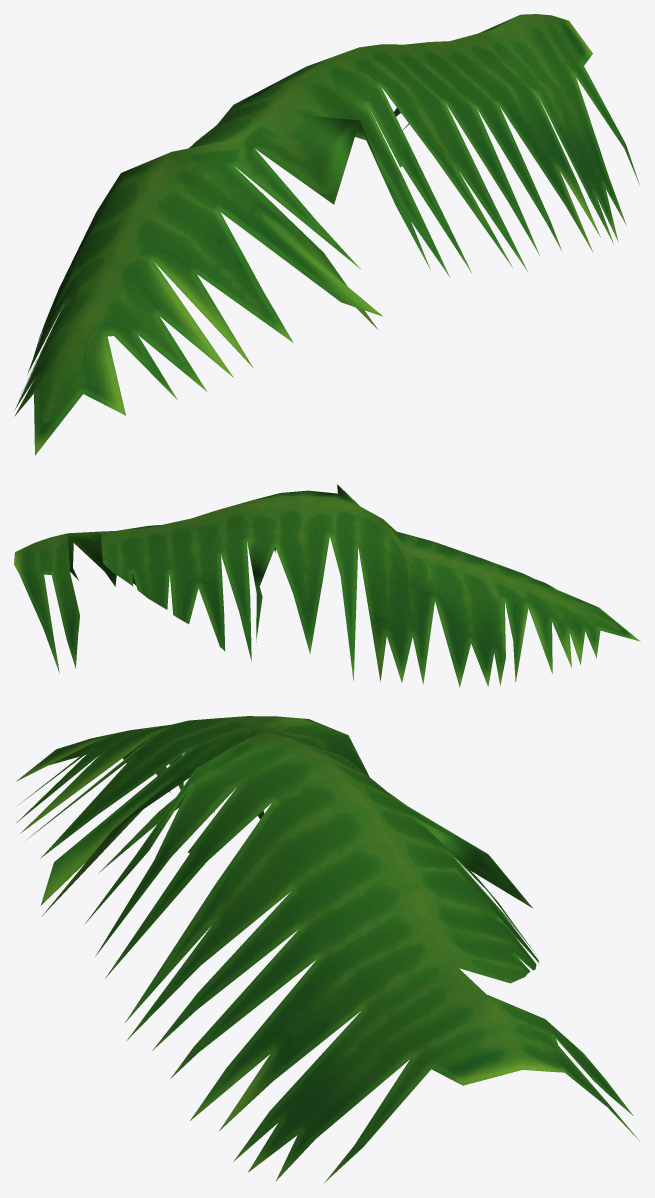
The model's file is palm_leaves_palm_leaves_0_007.obj.
3 views of the same model, one above another, from view 1: azimuth 30°, elevation 25°; view 2: azimuth 150°, elevation 25°; view 3: azimuth 270°, elevation 25° (orthographic). The views are drawn at different scales.
Visible parts, largest first — view 1: palm_leaves_palm_leaves_0.007; view 2: palm_leaves_palm_leaves_0.007; view 3: palm_leaves_palm_leaves_0.007.
Part boxes in pixels (x1,y1,x2,y2): palm_leaves_palm_leaves_0.007: [14, 14, 639, 455]; palm_leaves_palm_leaves_0.007: [14, 484, 640, 687]; palm_leaves_palm_leaves_0.007: [16, 716, 639, 1182].
Size of the model in its own units: 28.44 by 8.17 by 17.72.
1 material, 1 textured.
